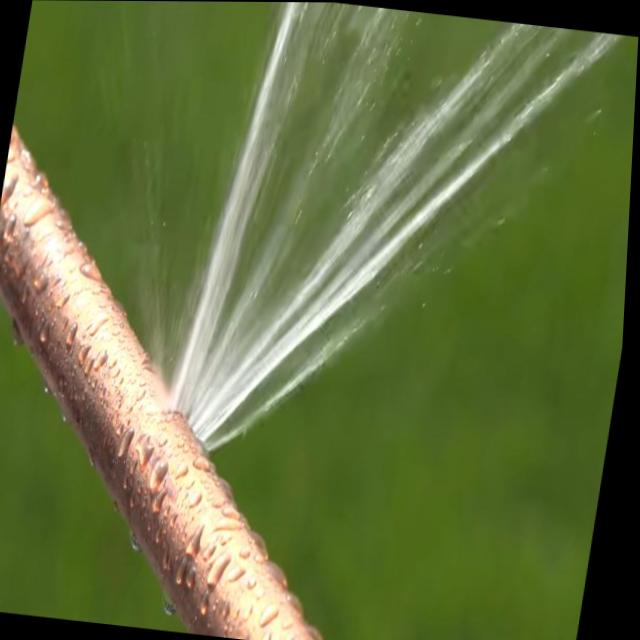leak: (170, 2, 622, 449)
